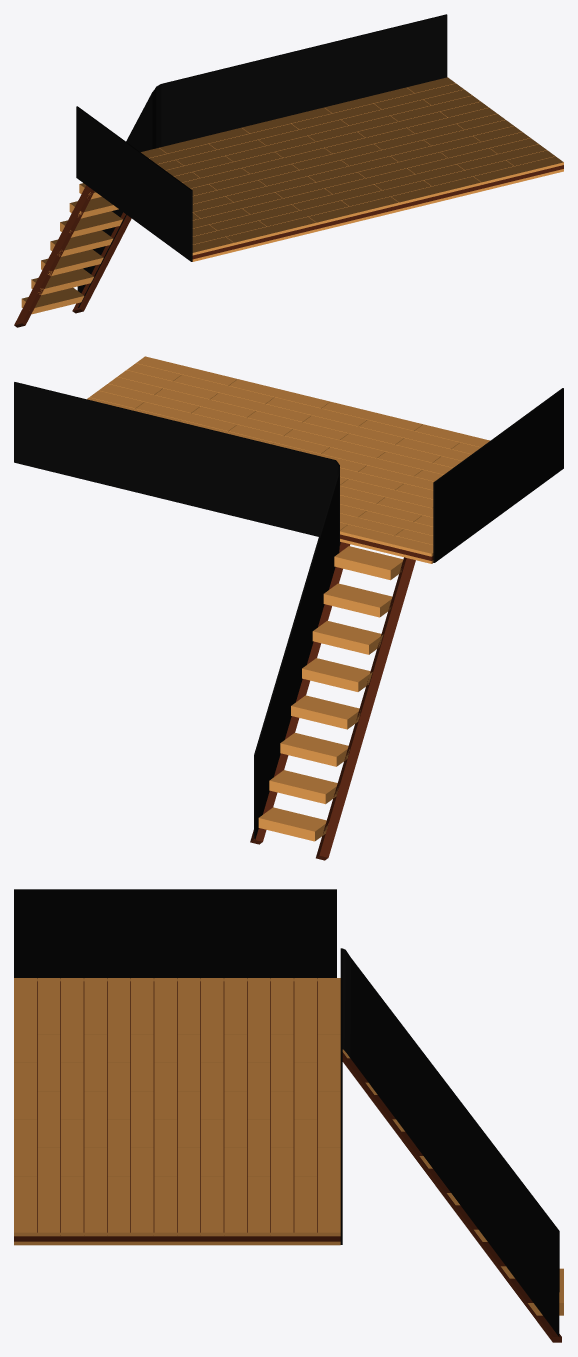
Rendered from Staircase & 2nd Floor.fbx.
The picture shows the model from 3 angles, top to bottom: view 1: azimuth 30°, elevation 25°; view 2: azimuth 150°, elevation 25°; view 3: azimuth 270°, elevation 25°; orthographic projection. The views are drawn at different scales.
Visible parts, largest first — view 1: Node 0; view 2: Node 0; view 3: Node 0.
Boxes of the visible parts, box(x1,y1,x2,y2) form: Node 0: box(14, 14, 563, 327); Node 0: box(14, 356, 563, 860); Node 0: box(14, 889, 563, 1342).
Size of the model in its own units: 4.37 by 3.47 by 4.81.
